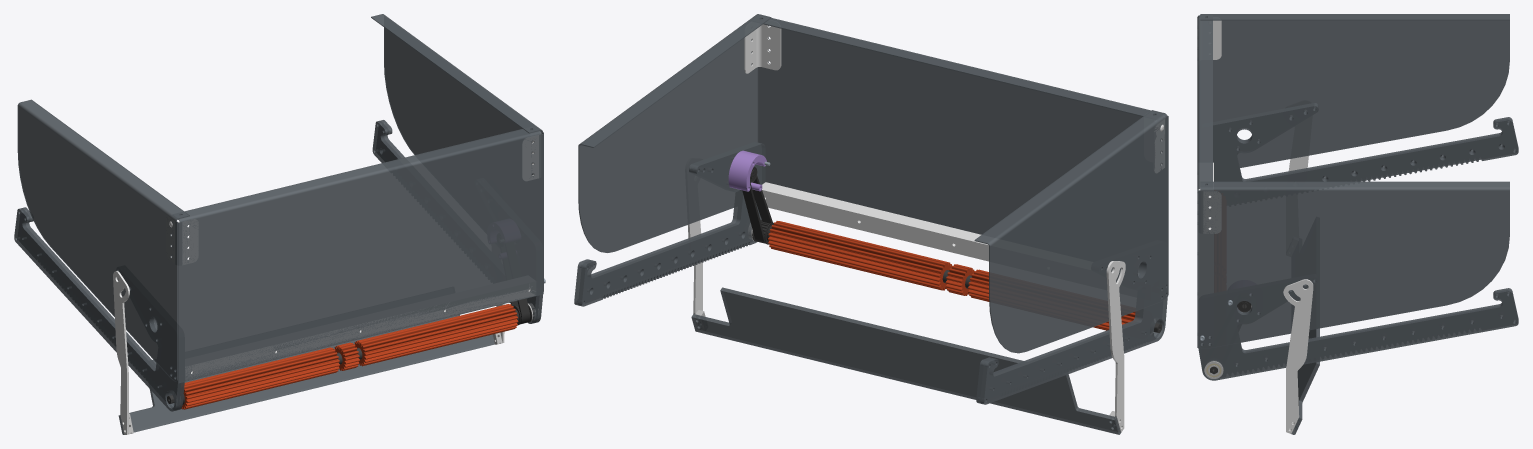
3 views of the same model, side by side, from view 1: azimuth 30°, elevation 25°; view 2: azimuth 150°, elevation 25°; view 3: azimuth 270°, elevation 25° (orthographic). The views are drawn at different scales.
Visible parts, largest first — view 1: Part 3, Part 2, Part 4, Petunia Roller (×8), Part 14, Part 8, Tube 1"x1"x25.375", 3" L Bracket 1.5x1.5 0.75CC 0.375E (×2), 9062-ITK-03, Part 13, Part 16; view 2: Part 3, Part 2, Part 4, Part 8, Part 14, Part 16, Tube 1"x1"x25.375", Petunia Roller (×5), 9062-ITK-03 (×2), Part 17, 3" L Bracket 1.5x1.5 0.75CC 0.375E, Part 13 (+2 smaller); view 3: Part 4, Part 2, Part 13, Part 14, Part 17, Part 16, Part 3, 9062-ITK-03, 3" L Bracket 1.5x1.5 0.75CC 0.375E (×2), Part 8.
Part boxes in pixels (x1,y1,x2,y2): Part 3: [174, 129, 543, 383]; Part 2: [17, 99, 189, 381]; Part 4: [371, 14, 543, 291]; Petunia Roller (×8): [181, 304, 518, 409]; Part 14: [14, 208, 181, 411]; Part 8: [118, 315, 494, 434]; Tube 1"x1"x25.375": [185, 287, 534, 378]; 3" L Bracket 1.5x1.5 0.75CC 0.375E (×2): [166, 135, 538, 264]; 9062-ITK-03: [113, 271, 129, 434]; Part 13: [22, 207, 184, 410]; Part 16: [372, 120, 539, 323]; Part 3: [758, 17, 1161, 234]; Part 2: [974, 110, 1168, 353]; Part 4: [578, 14, 771, 252]; Part 8: [691, 287, 1121, 434]; Part 14: [980, 242, 1167, 404]; Part 16: [578, 143, 765, 306]; Tube 1"x1"x25.375": [762, 182, 988, 261]; Petunia Roller (×5): [768, 221, 974, 295]; 9062-ITK-03 (×2): [687, 220, 1125, 432]; Part 17: [574, 142, 758, 305]; 3" L Bracket 1.5x1.5 0.75CC 0.375E: [744, 24, 781, 73]; Part 13: [976, 262, 1159, 403]; Part 4: [1198, 181, 1509, 348]; Part 2: [1200, 14, 1509, 167]; Part 13: [1213, 104, 1518, 181]; Part 14: [1213, 103, 1518, 181]; Part 17: [1198, 280, 1518, 380]; Part 16: [1199, 280, 1518, 376]; Part 3: [1197, 15, 1212, 347]; 9062-ITK-03: [1283, 279, 1313, 433]; 3" L Bracket 1.5x1.5 0.75CC 0.375E (×2): [1198, 20, 1221, 233]; Part 8: [1291, 328, 1319, 434].
Size of the model in its own units: 0.6921 by 0.4377 by 0.5218.
